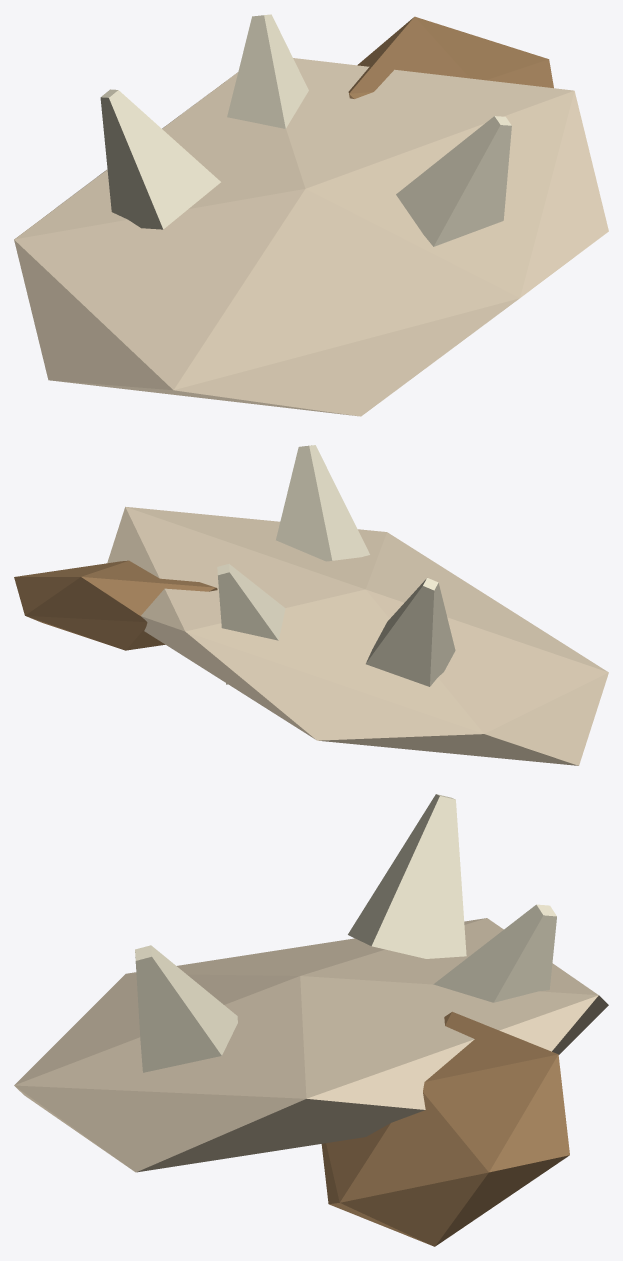
File: enemy_bloatcap_fragment_husk.glb
The picture shows the model from 3 angles, top to bottom: view 1: azimuth 30°, elevation 25°; view 2: azimuth 150°, elevation 25°; view 3: azimuth 270°, elevation 25°; orthographic projection. The views are drawn at different scales.
Parts seen in each view (by area): view 1: Fragment_Husk_Skin, Fragment_Husk_Wart_0, Fragment_Husk_Wart_1, Fragment_Husk_Curl, Fragment_Husk_Wart_2; view 2: Fragment_Husk_Skin, Fragment_Husk_Curl, Fragment_Husk_Wart_1, Fragment_Husk_Wart_0, Fragment_Husk_Wart_2; view 3: Fragment_Husk_Skin, Fragment_Husk_Curl, Fragment_Husk_Wart_0, Fragment_Husk_Wart_1, Fragment_Husk_Wart_2.
Boxes of the visible parts, <box> form: Fragment_Husk_Skin: <box>14,58,608,416</box>; Fragment_Husk_Wart_0: <box>100,89,220,229</box>; Fragment_Husk_Wart_1: <box>396,116,511,246</box>; Fragment_Husk_Curl: <box>348,16,553,98</box>; Fragment_Husk_Wart_2: <box>227,14,308,128</box>; Fragment_Husk_Skin: <box>107,506,608,765</box>; Fragment_Husk_Curl: <box>14,560,217,650</box>; Fragment_Husk_Wart_1: <box>276,445,369,561</box>; Fragment_Husk_Wart_0: <box>366,577,455,686</box>; Fragment_Husk_Wart_2: <box>217,564,285,684</box>; Fragment_Husk_Skin: <box>14,918,608,1172</box>; Fragment_Husk_Curl: <box>321,1011,569,1246</box>; Fragment_Husk_Wart_0: <box>348,794,466,958</box>; Fragment_Husk_Wart_1: <box>135,945,237,1072</box>; Fragment_Husk_Wart_2: <box>433,904,556,1002</box>.
Bounding box in the file's own units: 0.3299 × 0.1227 × 0.2478.
